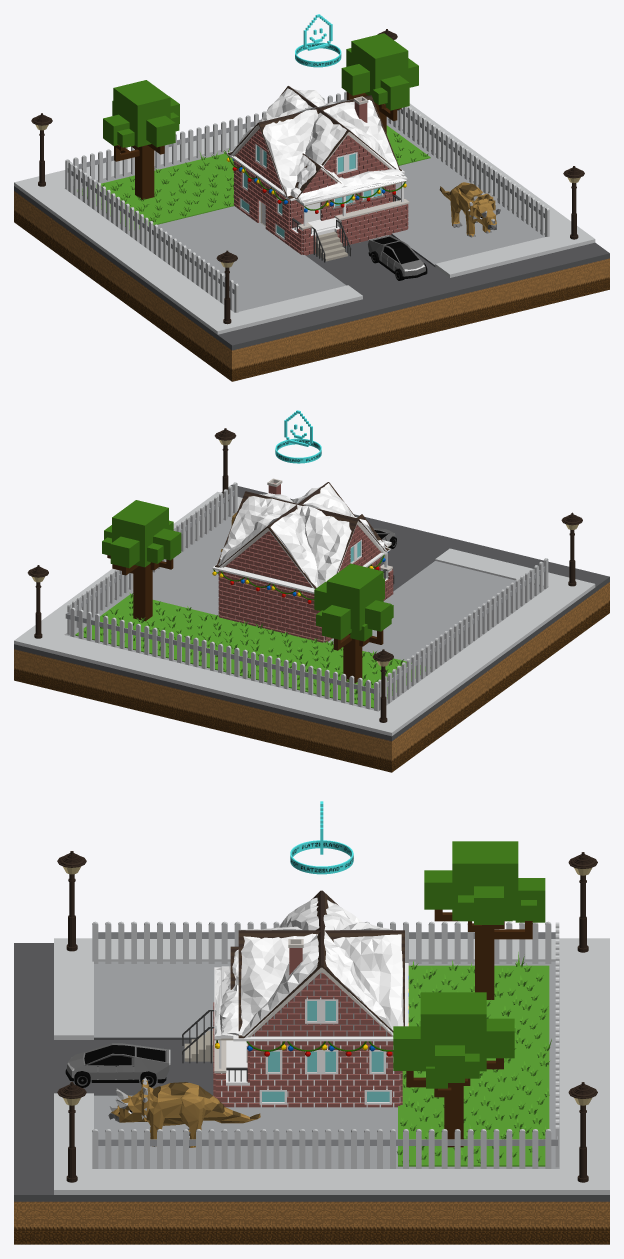
3 renders of one model, top to bottom at view 1: azimuth 30°, elevation 25°; view 2: azimuth 150°, elevation 25°; view 3: azimuth 270°, elevation 25°, orthographic. The views are drawn at different scales.
Visible parts, largest first — view 1: Cube.004, Cube.1419, ANIMAL_Triceratops, VEHICLES_CYBERTRUCK, TYPE_PREMIUM; view 2: Cube.004, Cube.1419, TYPE_PREMIUM; view 3: Cube.004, Cube.1419, ANIMAL_Triceratops, VEHICLES_CYBERTRUCK, TYPE_PREMIUM.
Boxes of the visible parts, left/top/right/bottom form: Cube.004: left=14, top=29, right=609, bottom=381; Cube.1419: left=226, top=86, right=409, bottom=262; ANIMAL_Triceratops: left=439, top=182, right=500, bottom=237; VEHICLES_CYBERTRUCK: left=368, top=235, right=427, bottom=280; TYPE_PREMIUM: left=295, top=14, right=341, bottom=67; Cube.004: left=14, top=428, right=609, bottom=772; Cube.1419: left=212, top=478, right=394, bottom=642; TYPE_PREMIUM: left=275, top=410, right=321, bottom=463; Cube.004: left=14, top=841, right=609, bottom=1244; Cube.1419: left=182, top=890, right=408, bottom=1107; ANIMAL_Triceratops: left=108, top=1078, right=260, bottom=1147; VEHICLES_CYBERTRUCK: left=65, top=1043, right=170, bottom=1087; TYPE_PREMIUM: left=290, top=801, right=353, bottom=874.
Size of the model in its own units: 4000 by 2483 by 4000.
38 materials, 4 textured.
